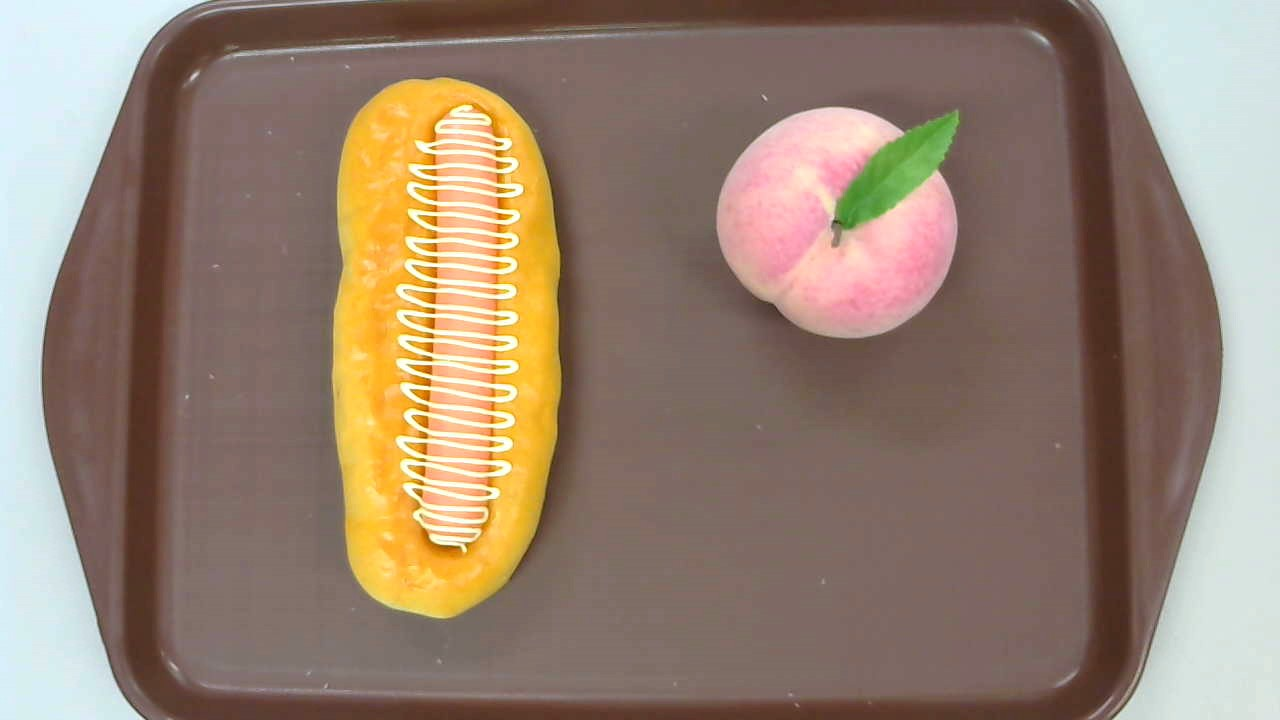hot dog: (330, 78, 563, 620)
peach: (716, 104, 960, 339)
